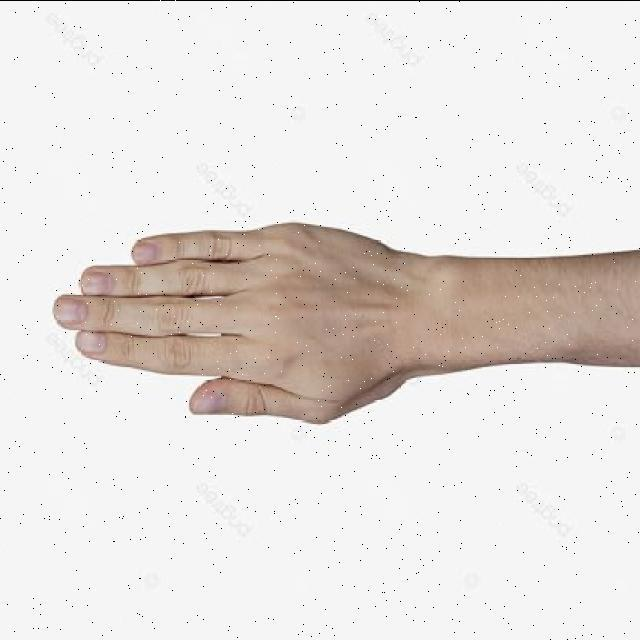no_apron: (45, 212, 432, 422)
